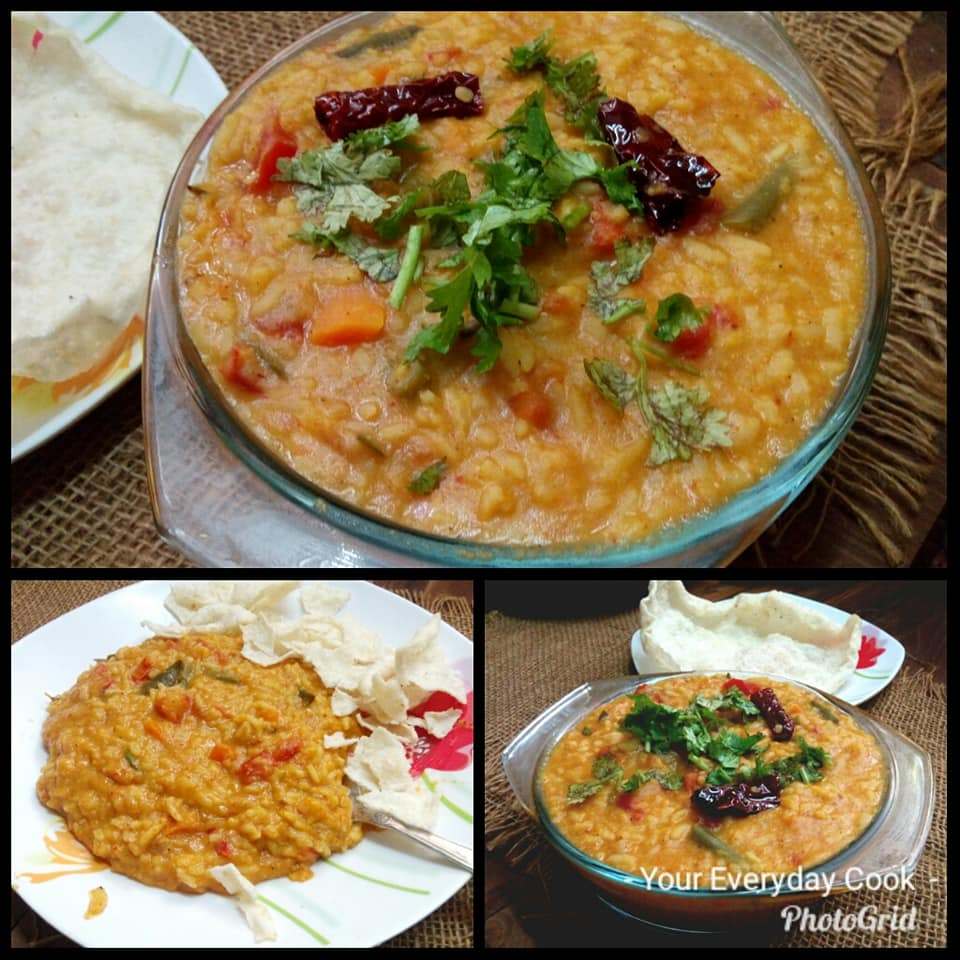rice: (215, 42, 841, 487), (46, 621, 372, 893), (533, 657, 895, 900)
